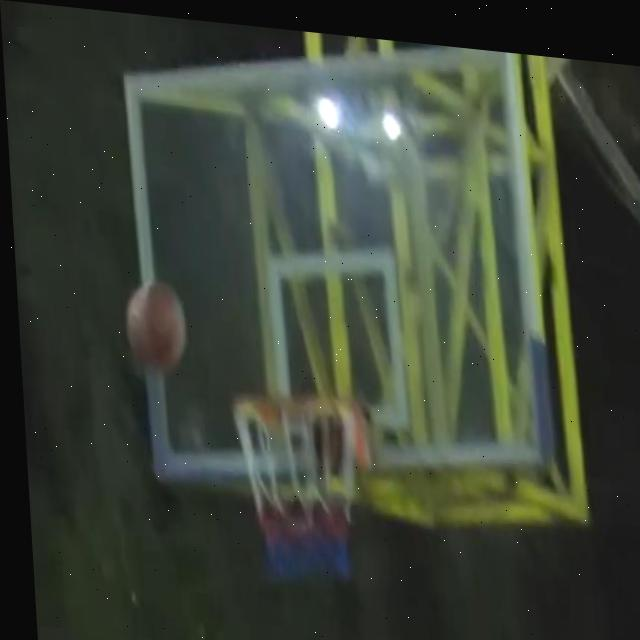basketball: (110, 270, 196, 387)
hoop: (226, 383, 372, 606)
